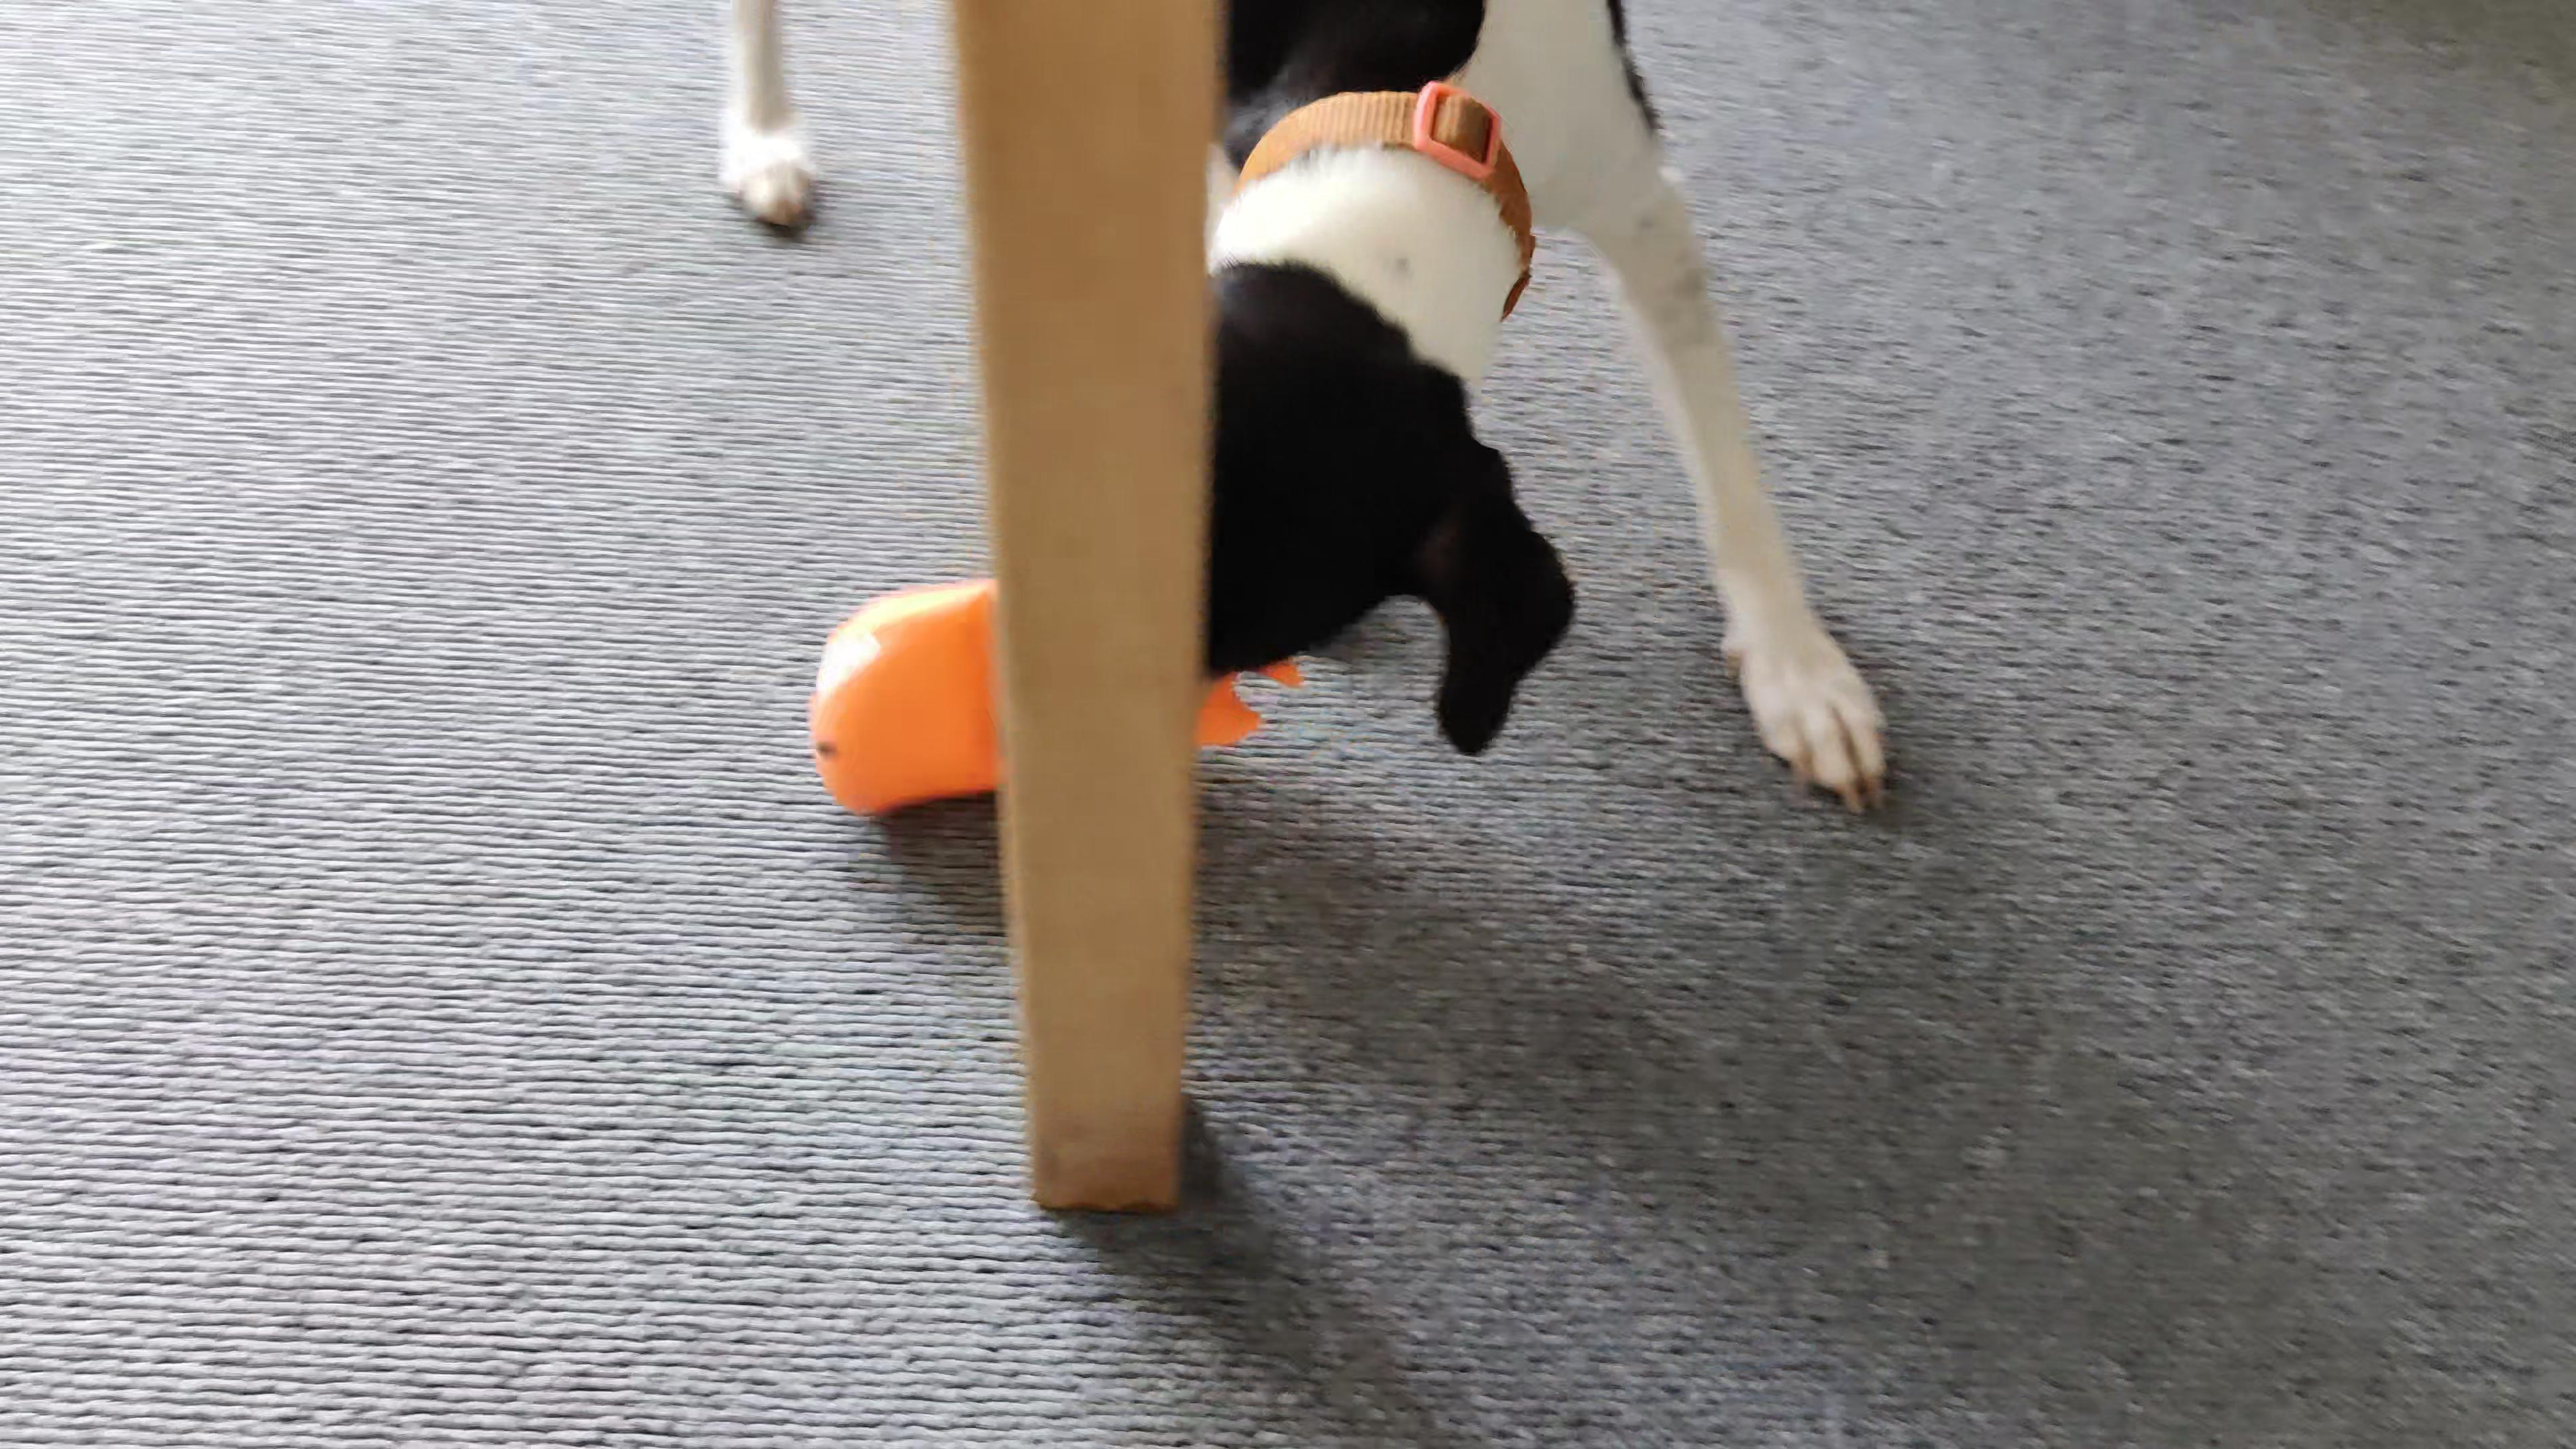Dog: (683, 0, 1932, 816)
